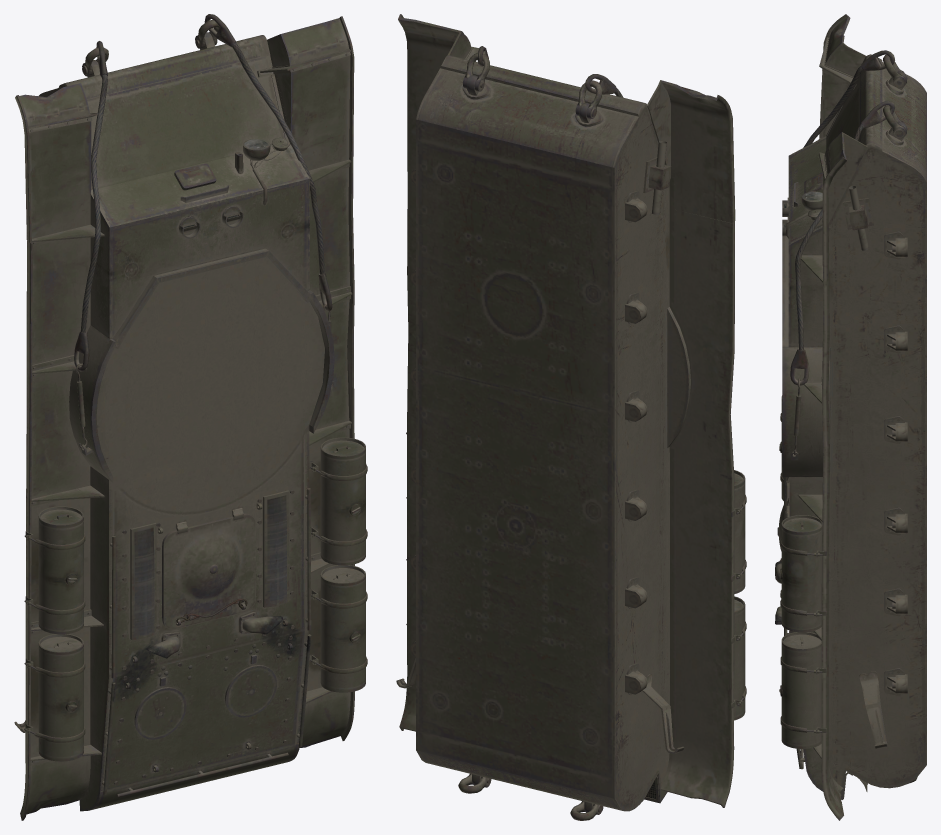
File: Hull.glb
3 views of the same model, side by side, from view 1: azimuth 30°, elevation 25°; view 2: azimuth 150°, elevation 25°; view 3: azimuth 270°, elevation 25° (orthographic). The views are drawn at different scales.
Visible parts, largest first — view 1: set_0_group_0; view 2: set_0_group_0; view 3: set_0_group_0.
Part boxes in pixels (x1,y1,x2,y2): set_0_group_0: (14,14,367,820); set_0_group_0: (396,14,746,820); set_0_group_0: (775,14,926,820).
Bounding box in the file's own units: 3.24 × 6.85 × 1.38.
Materials: 1 (1 with a texture image).
